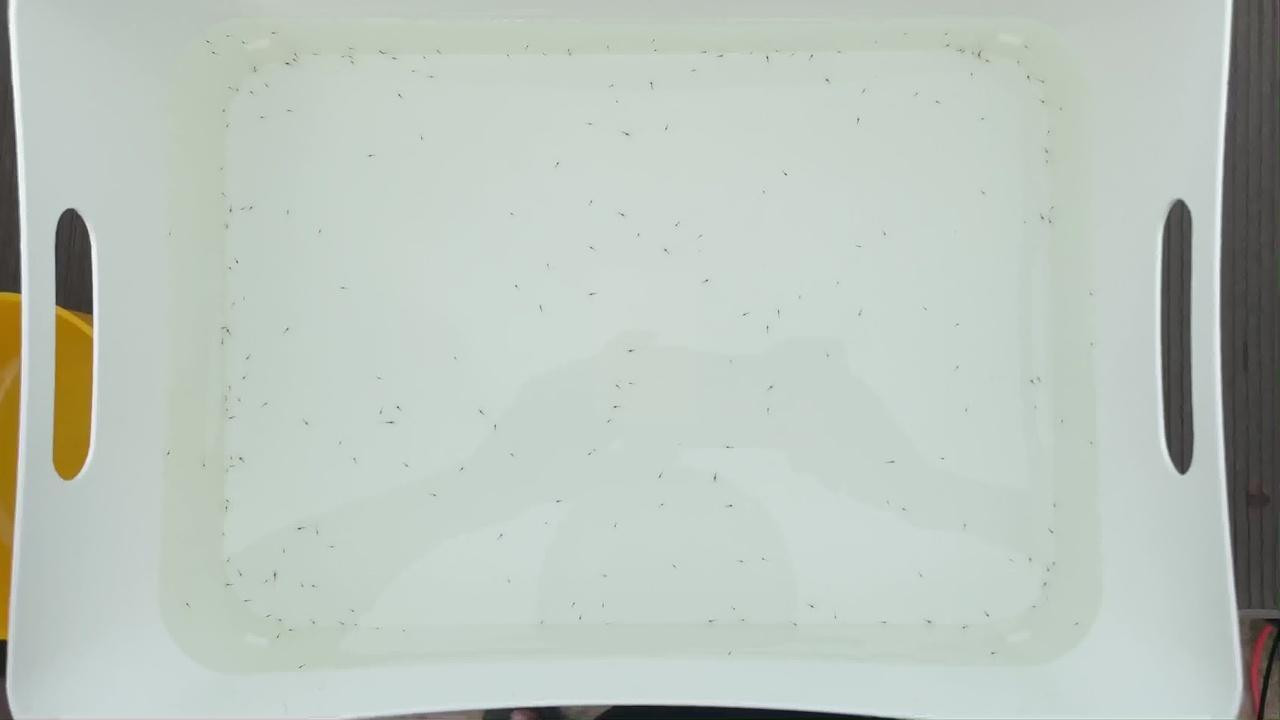shrimp: (940, 35, 953, 43), (981, 58, 994, 66), (1021, 41, 1034, 49), (1056, 107, 1069, 115), (1021, 218, 1034, 226), (966, 69, 979, 77), (806, 52, 819, 60), (771, 46, 784, 54), (602, 46, 615, 54), (661, 124, 674, 132), (425, 74, 438, 82), (395, 91, 408, 99), (389, 58, 402, 66), (283, 57, 296, 65), (268, 30, 281, 38), (222, 35, 235, 43), (247, 63, 260, 71), (298, 418, 311, 426), (272, 567, 285, 575), (272, 634, 285, 642), (259, 611, 272, 619), (401, 462, 414, 470), (708, 617, 721, 625), (610, 406, 623, 414), (628, 345, 641, 353), (882, 229, 895, 237), (950, 367, 963, 375), (725, 445, 738, 453), (876, 495, 889, 503), (1085, 445, 1098, 453), (986, 650, 999, 658), (806, 600, 819, 608), (1044, 130, 1056, 138), (911, 90, 923, 98), (341, 52, 353, 60), (313, 229, 325, 237), (181, 600, 193, 608), (308, 583, 320, 591), (308, 617, 320, 625), (335, 617, 347, 625), (457, 462, 469, 470), (734, 556, 746, 564), (612, 379, 624, 387), (1022, 378, 1034, 386), (941, 41, 954, 48), (872, 39, 885, 46), (954, 48, 967, 55), (973, 48, 986, 55), (1023, 76, 1036, 83), (1038, 75, 1051, 82), (1033, 98, 1046, 105), (1043, 147, 1056, 154), (1043, 158, 1056, 165), (1035, 214, 1048, 221), (976, 187, 989, 194), (976, 118, 989, 125), (932, 101, 945, 108), (860, 86, 873, 93), (854, 119, 867, 126), (836, 46, 849, 53), (787, 51, 800, 58), (759, 53, 772, 60), (715, 52, 728, 59), (698, 47, 711, 54), (688, 67, 701, 74), (651, 46, 664, 53), (648, 38, 661, 45), (607, 82, 620, 89), (613, 97, 626, 104), (584, 124, 597, 131), (565, 52, 578, 59), (563, 48, 576, 55), (536, 52, 549, 59), (524, 44, 537, 51), (506, 51, 519, 58), (435, 49, 448, 56), (419, 53, 432, 60), (409, 66, 422, 73), (417, 131, 430, 138), (362, 154, 375, 161), (379, 49, 392, 56), (349, 60, 362, 67), (345, 53, 358, 60), (292, 50, 305, 57), (239, 40, 252, 47), (203, 39, 216, 46), (210, 49, 223, 56), (233, 86, 246, 93), (245, 90, 258, 97), (261, 83, 274, 90), (286, 109, 299, 116), (260, 112, 273, 119), (218, 169, 231, 176), (225, 208, 238, 215), (222, 221, 235, 228), (240, 203, 253, 210), (244, 204, 257, 211), (280, 209, 293, 216), (222, 269, 235, 276), (238, 298, 251, 305), (226, 301, 239, 308), (218, 322, 231, 329), (222, 333, 235, 340), (237, 372, 250, 379), (280, 322, 293, 329), (256, 400, 269, 407), (233, 396, 246, 403), (225, 384, 238, 391), (220, 406, 233, 413), (162, 448, 175, 455), (194, 458, 207, 465), (218, 468, 231, 475), (227, 464, 240, 471), (222, 452, 235, 459), (236, 455, 249, 462), (348, 456, 361, 463), (310, 526, 323, 533), (293, 524, 306, 531), (325, 542, 338, 549), (281, 546, 294, 553), (224, 497, 237, 504), (222, 504, 235, 511), (217, 530, 230, 537), (222, 559, 235, 566), (234, 570, 247, 577), (238, 598, 251, 605), (259, 578, 272, 585), (292, 581, 305, 588), (287, 627, 300, 634), (276, 617, 289, 624), (344, 609, 357, 616), (350, 623, 363, 630), (375, 626, 388, 633), (376, 409, 389, 416), (375, 374, 388, 381), (390, 399, 403, 406), (451, 352, 464, 359), (474, 412, 487, 419), (506, 447, 519, 454), (428, 494, 441, 501), (550, 500, 563, 507), (614, 519, 627, 526), (595, 598, 608, 605), (565, 598, 578, 605), (531, 618, 544, 625), (727, 652, 740, 659), (732, 612, 745, 619), (722, 604, 735, 611), (758, 556, 771, 563), (725, 503, 738, 510), (712, 475, 725, 482), (655, 499, 668, 506), (585, 452, 598, 459), (588, 444, 601, 451), (602, 420, 615, 427), (631, 381, 644, 388), (537, 305, 550, 312), (552, 160, 565, 167), (543, 263, 556, 270), (585, 292, 598, 299), (585, 243, 598, 250), (588, 198, 601, 205), (614, 210, 627, 217), (631, 230, 644, 237), (663, 249, 676, 256), (669, 227, 682, 234), (692, 233, 705, 240), (760, 187, 773, 194), (780, 175, 793, 182), (738, 315, 751, 322), (774, 306, 787, 313), (794, 294, 807, 301), (836, 279, 849, 286), (858, 245, 871, 252), (852, 312, 865, 319), (916, 305, 929, 312), (951, 323, 964, 330), (821, 354, 834, 361), (761, 408, 774, 415), (728, 364, 741, 371), (885, 454, 898, 461), (936, 455, 949, 462), (959, 408, 972, 415), (1029, 399, 1042, 406), (1034, 374, 1047, 381), (1083, 289, 1096, 296), (1083, 343, 1096, 350), (1057, 415, 1070, 422), (1046, 498, 1059, 505), (1043, 525, 1056, 532), (1050, 558, 1063, 565), (1038, 576, 1051, 583), (1021, 555, 1034, 562), (959, 524, 972, 531), (1071, 622, 1084, 629), (978, 613, 991, 620), (921, 617, 934, 624), (915, 570, 928, 577), (877, 620, 890, 627), (967, 50, 979, 57), (1011, 60, 1023, 67), (1045, 205, 1057, 212), (1044, 217, 1056, 224), (823, 76, 835, 83), (646, 83, 658, 90), (623, 134, 635, 141), (347, 46, 359, 53), (308, 51, 320, 58), (291, 57, 303, 64), (225, 84, 237, 91), (225, 120, 237, 127), (219, 107, 231, 114), (219, 187, 231, 194), (336, 287, 348, 294), (230, 259, 242, 266), (213, 340, 225, 347), (241, 353, 253, 360), (219, 391, 231, 398), (225, 414, 237, 421), (335, 439, 347, 446), (225, 582, 237, 589), (297, 661, 309, 668), (397, 625, 409, 632), (385, 417, 397, 424), (491, 423, 503, 430), (501, 535, 513, 542), (502, 576, 514, 583), (601, 569, 613, 576), (573, 612, 585, 619), (668, 565, 680, 572), (657, 470, 669, 477), (513, 281, 525, 288), (507, 212, 519, 219), (701, 277, 713, 284), (762, 328, 774, 335), (767, 384, 779, 391), (900, 503, 912, 510), (1044, 564, 1056, 571), (1028, 601, 1040, 608), (956, 624, 968, 631), (823, 610, 835, 617), (789, 618, 801, 625)
